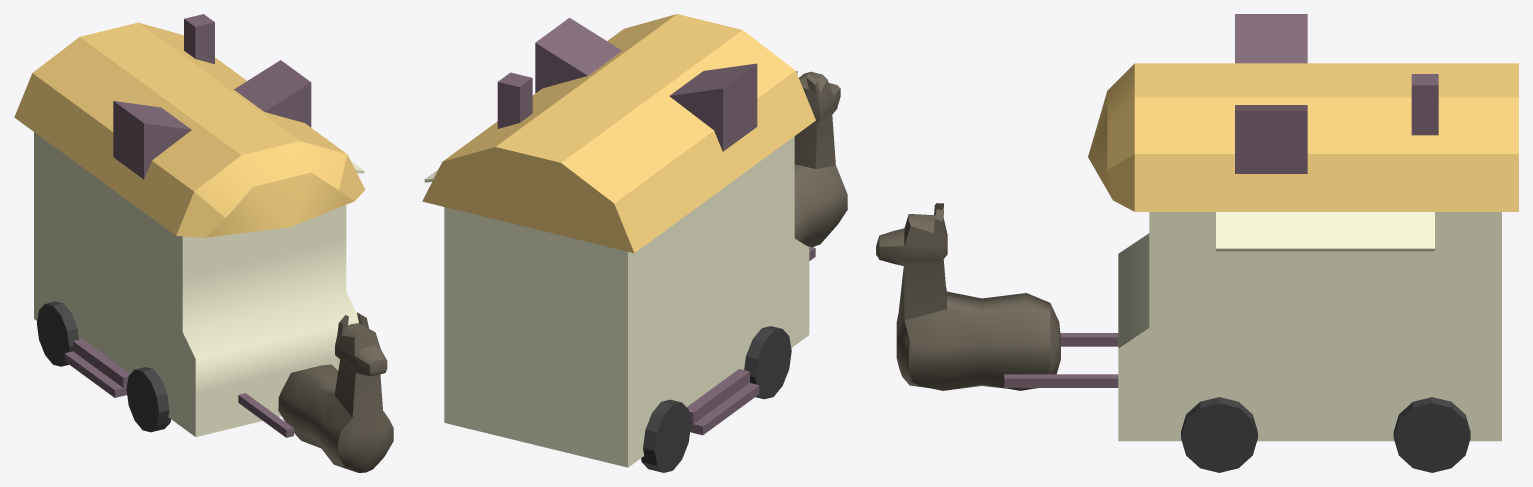
File: araba.fbx
3 views of the same model, side by side, from view 1: azimuth 30°, elevation 25°; view 2: azimuth 150°, elevation 25°; view 3: azimuth 270°, elevation 25° (orthographic). The views are drawn at different scales.
Parts seen in each view (by area): view 1: pCube9; view 2: pCube9; view 3: pCube9.
Part boxes in pixels (box(x1,y1,x2,y2)): pCube9: box(14, 14, 393, 472); pCube9: box(422, 14, 847, 472); pCube9: box(876, 14, 1518, 472).
Bounding box in the file's own units: 8.12 × 10.58 × 16.69.
